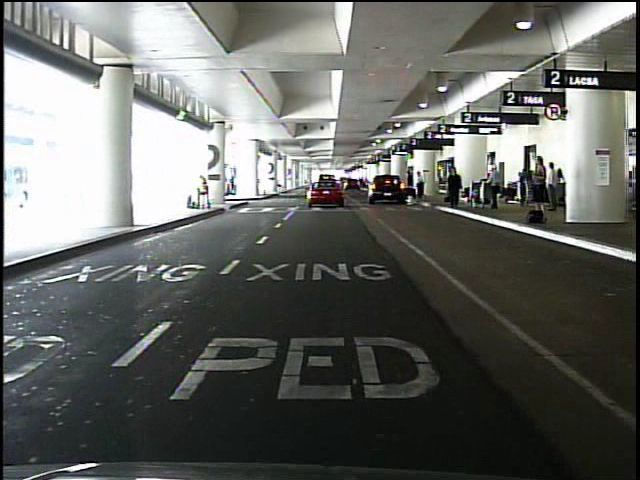person: (529, 154, 551, 212), (489, 163, 504, 212), (196, 173, 213, 212), (547, 162, 560, 213), (448, 168, 463, 209), (405, 171, 417, 207), (446, 166, 457, 204), (417, 170, 427, 199)
